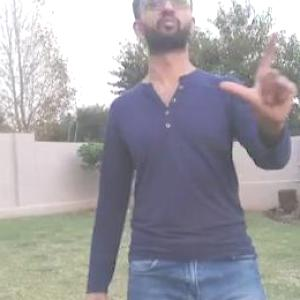land_hand: (217, 19, 299, 129)
